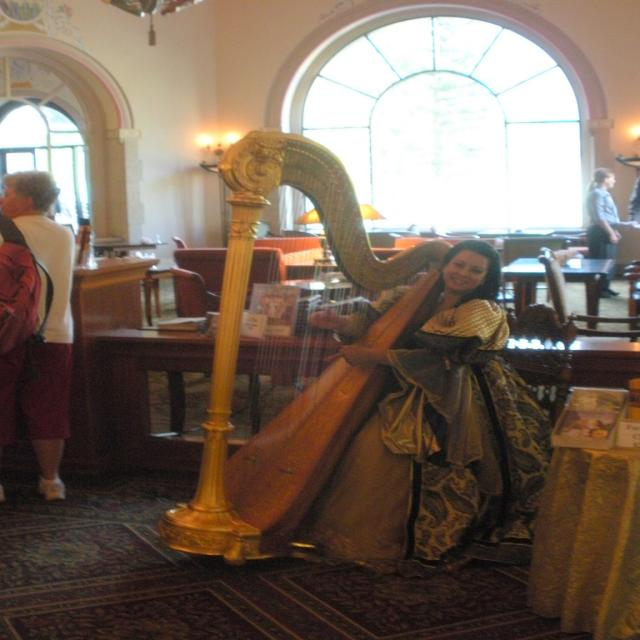harp: (149, 128, 457, 568)
